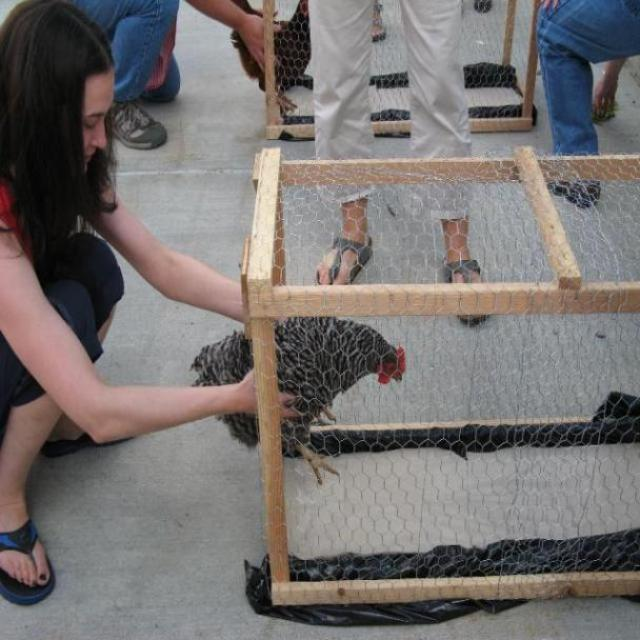Chicken: (188, 312, 407, 489), (224, 0, 312, 117)
